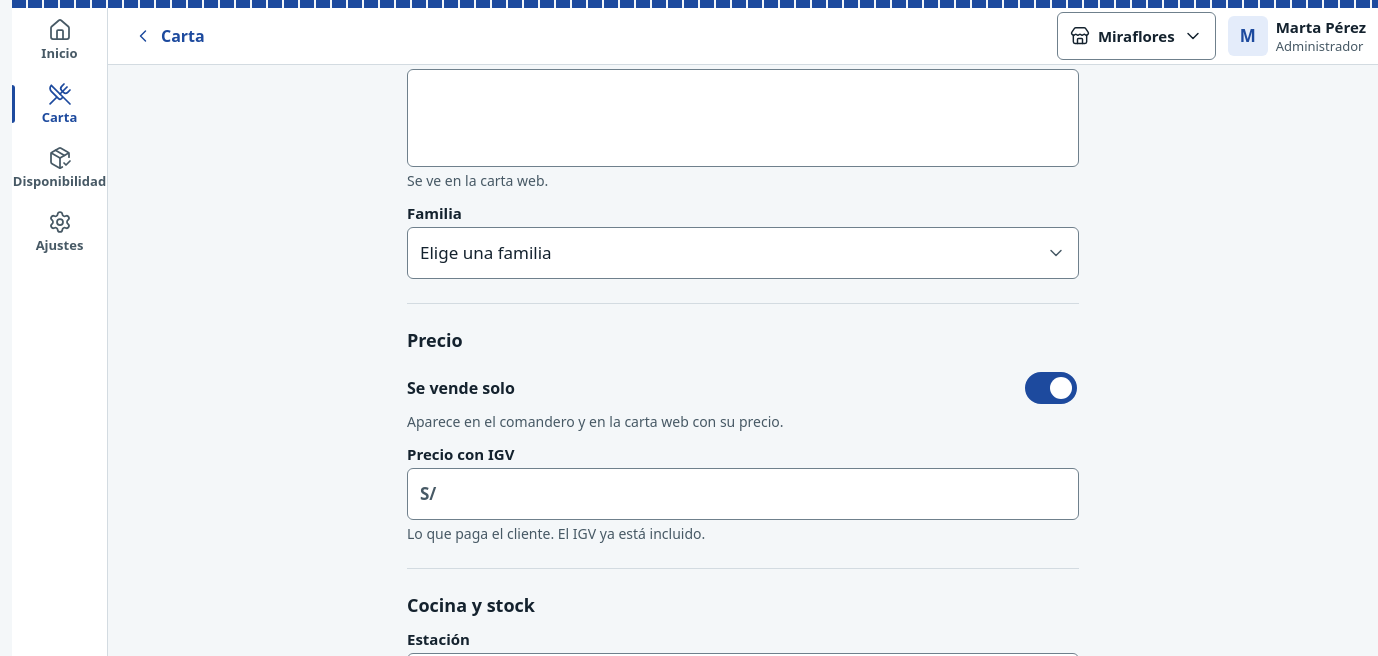
formulario de producto: alta › con "Se vende solo" apagado no pide ni envía precio
Later steps or results of the test are not shown.
(page scrolled)
Step 1. Click the switch named "Se vende solo" → (1051, 388), box [1023,364,1079,412]
(page scrolled)
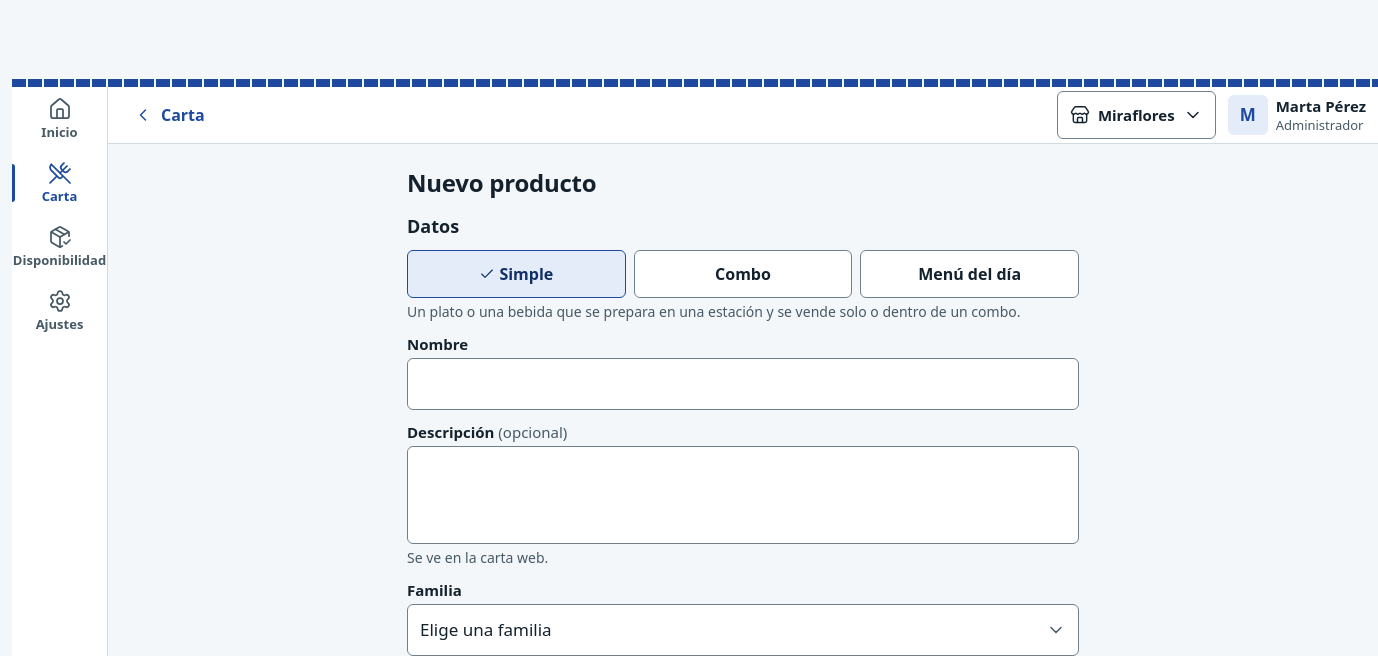
Expected: the label labelled "Precio con IGV" is gone
